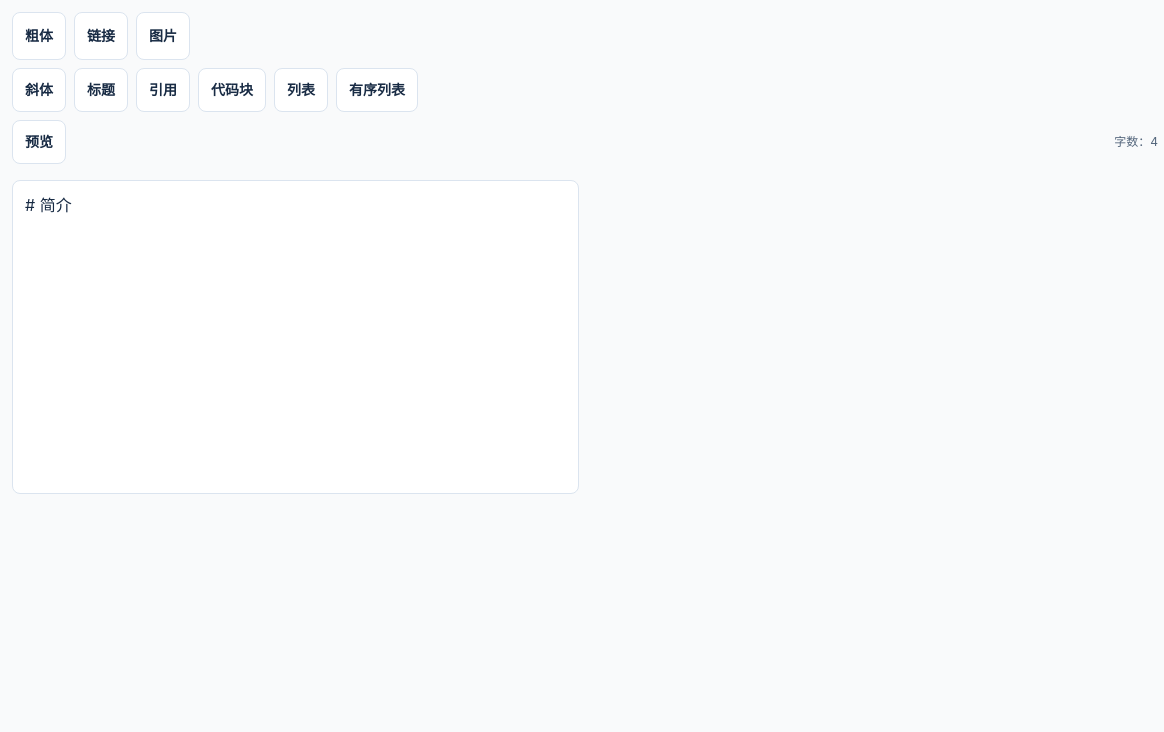
Test: MarkdownTextareaEditor preview defaults › supports an initially collapsed preview that can be toggled open
Click the button "预览" at point(39, 142), box [12, 120, 66, 164]
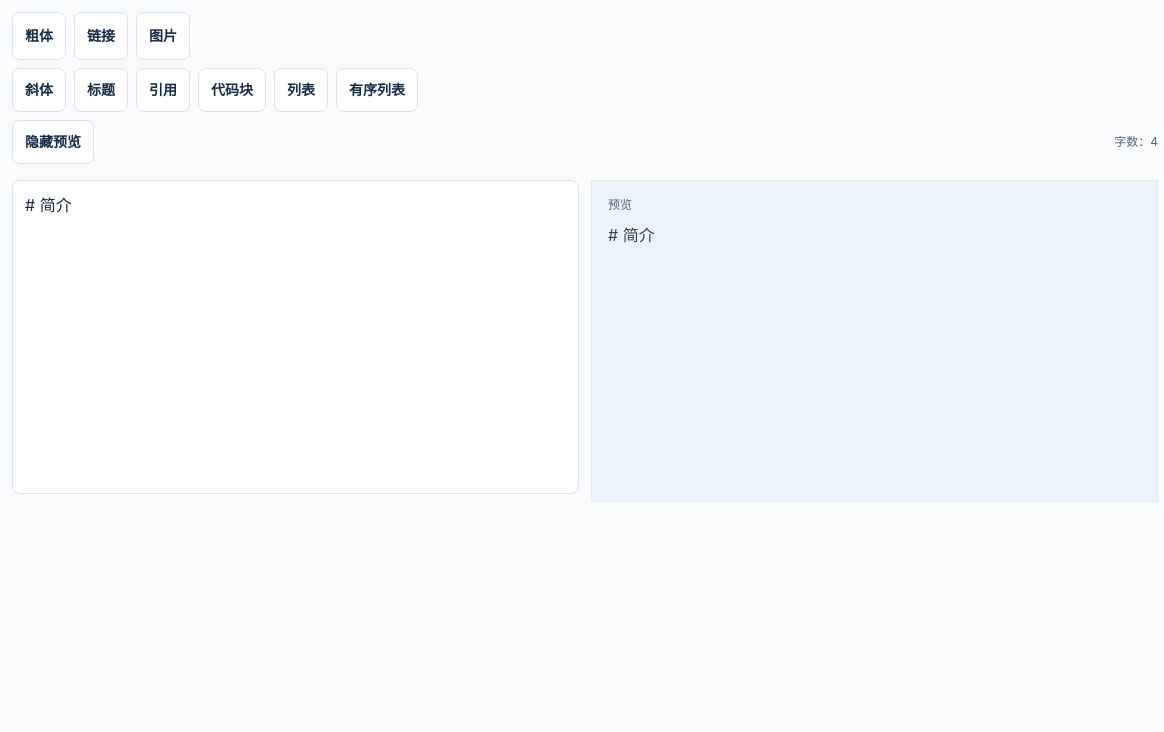
Now the text "# 简介" is shown, box [608, 225, 655, 245]
